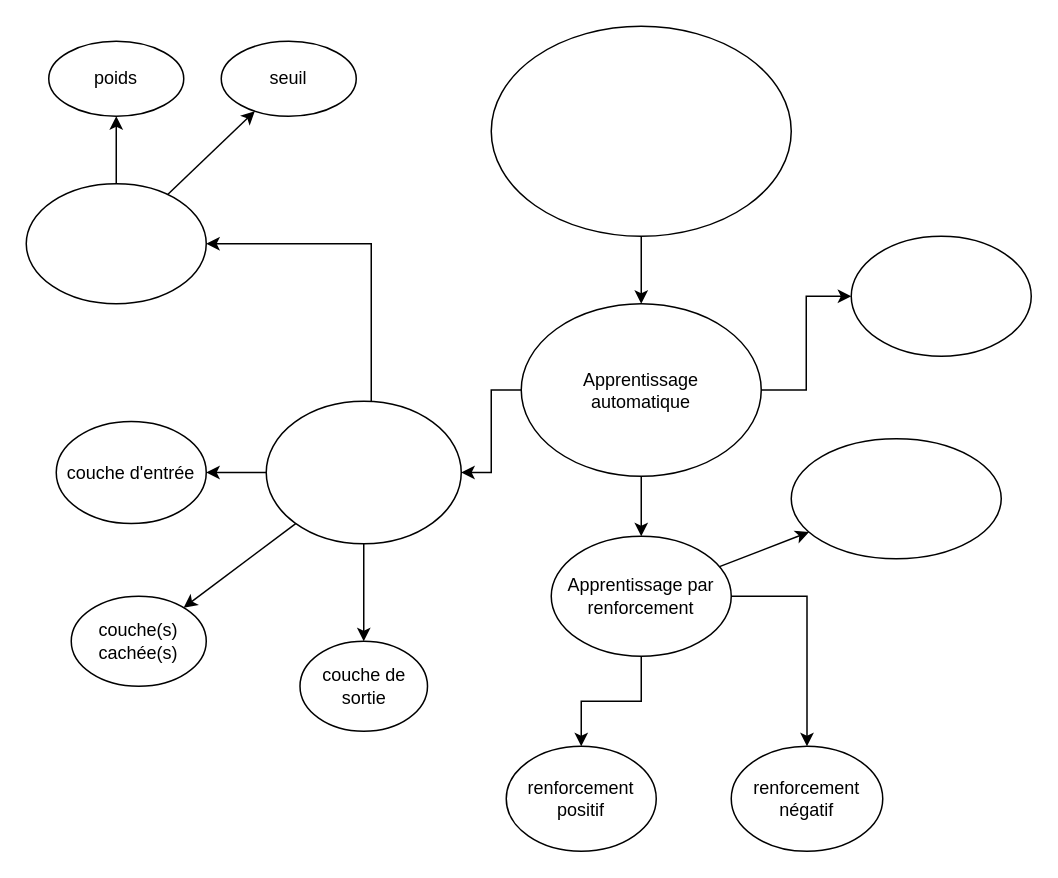
Image size: 1058x878. Some labels were removed from this diagram. The shapes that lost their labels are listed below. From the top down, each one's centre as x and y in pixels, then its label:
At point 640,130: "Intelligence artificielle".
At point 115,243: "noeud".
At point 940,295: "Agent".
At point 363,472: "réseaux de neurones artificiels".
At point 895,498: "performance au fil du temps".
